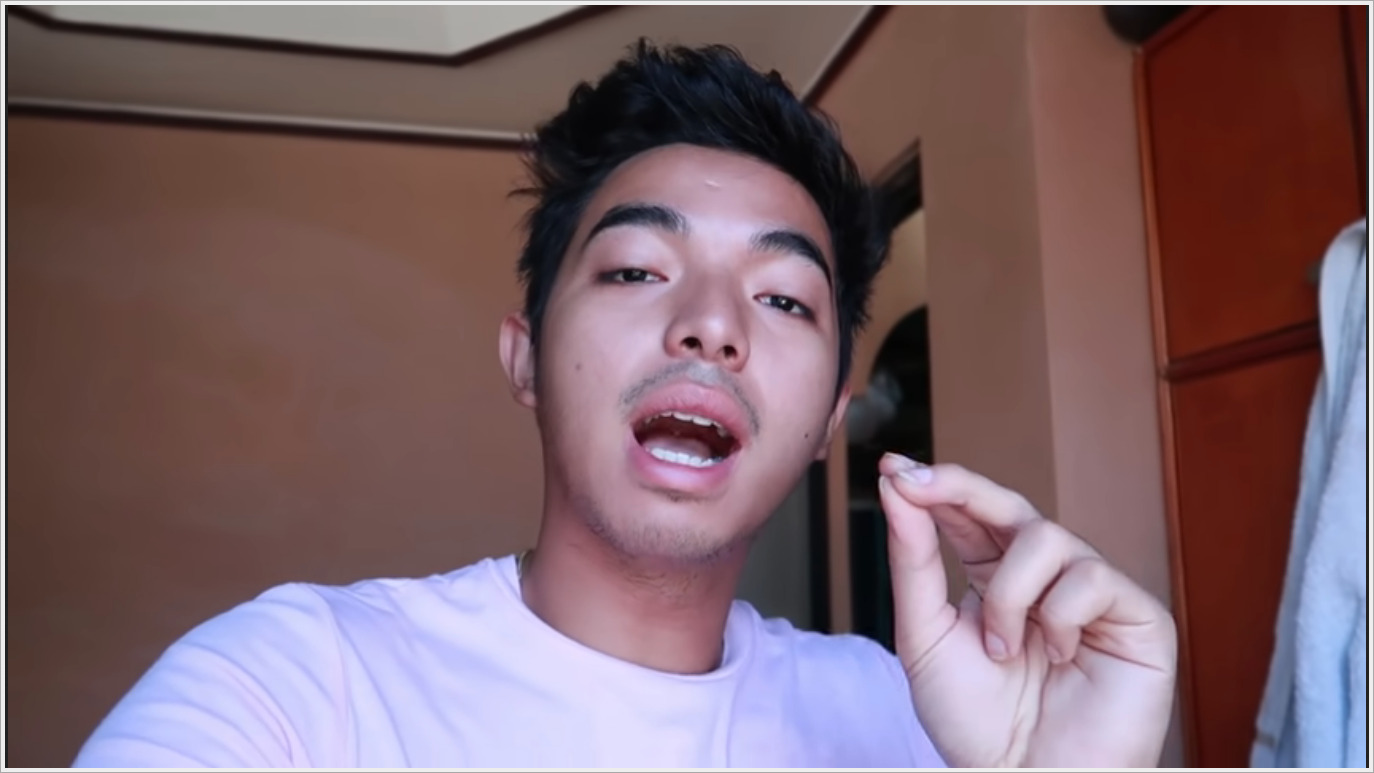hand: (869, 442, 1183, 764)
